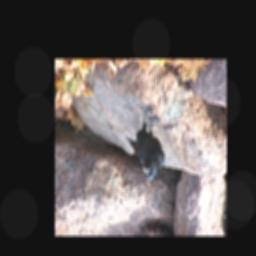Crow: (122, 103, 165, 184)
